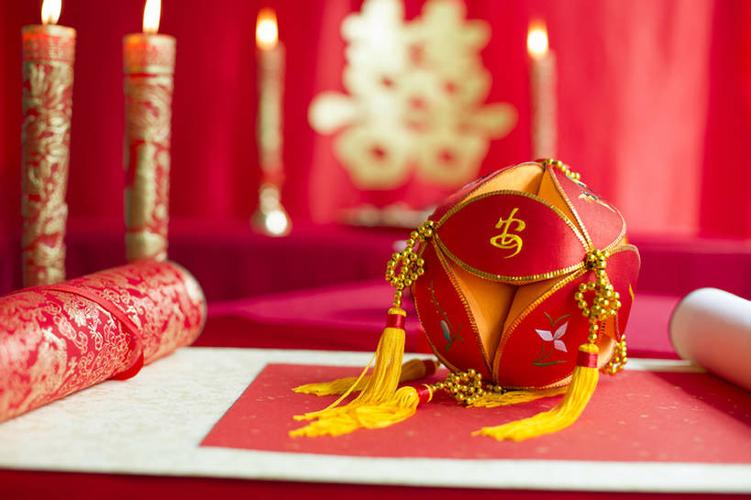xiuqiu: (402, 160, 650, 396)
